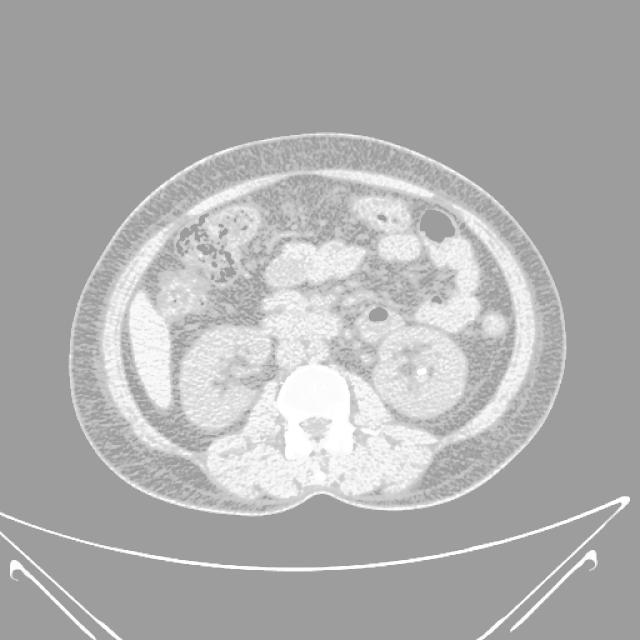STONE: (132, 193, 527, 337)
